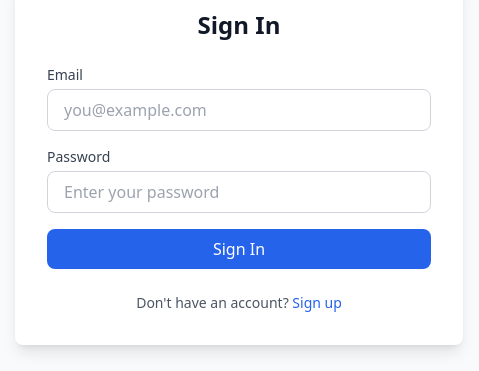
LoginForm › shows loading state during submission
In the field labelled "Email": (239, 110) [47, 89, 431, 131], type "test@example.com"
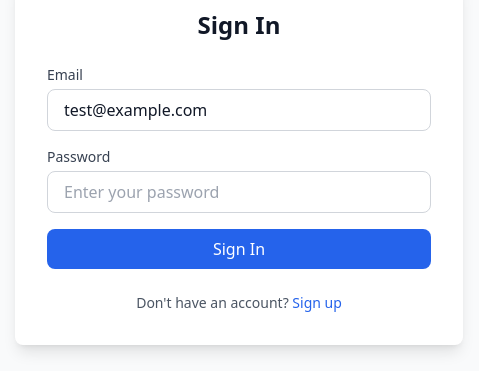
In the password field labelled "Password": (239, 192) [47, 171, 431, 213], type "password123"
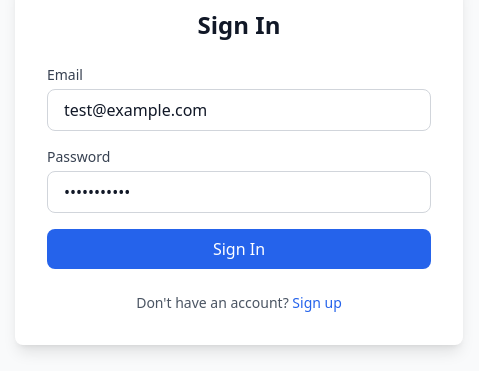
Click the button "Sign In": (239, 249) [47, 229, 431, 269]
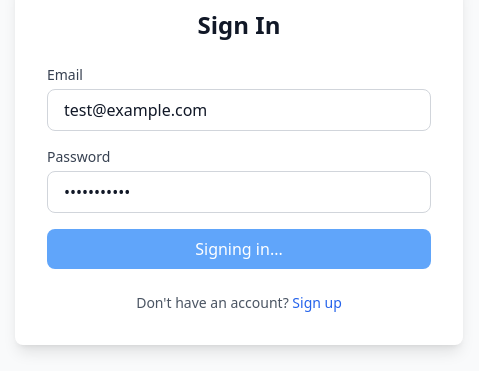
Check: the button "Signing in..." is disabled, box [47, 229, 431, 269]
